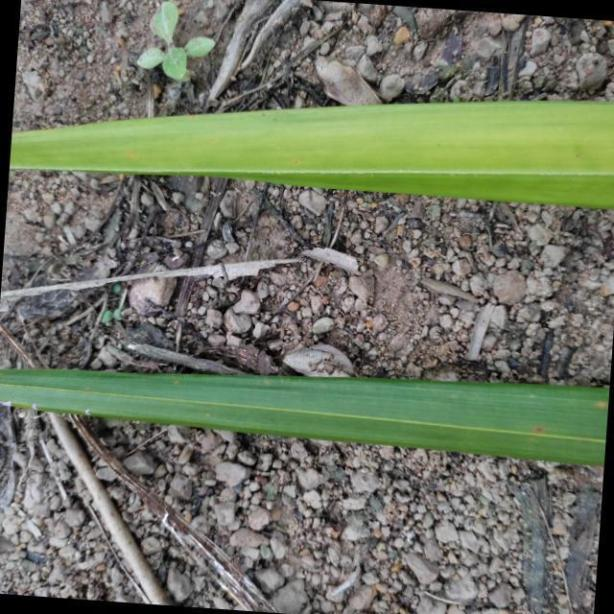nitrogen: (19, 96, 614, 213), (0, 361, 609, 475)
